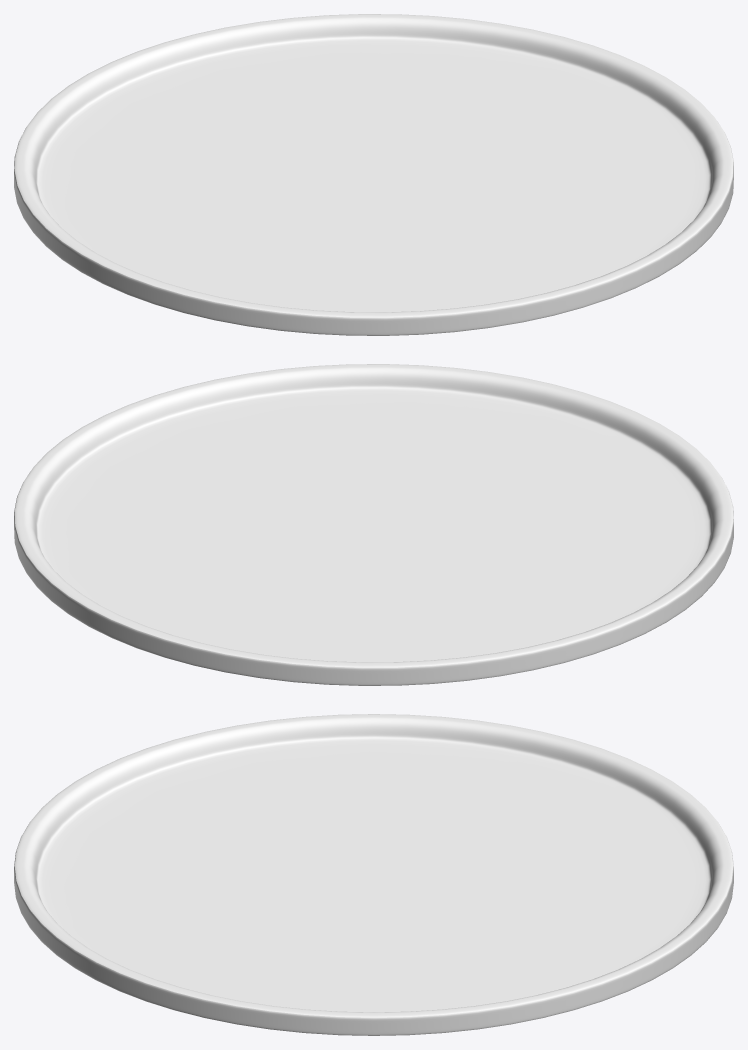
The model's file is HP_wideplate.glb.
The picture shows the model from 3 angles, top to bottom: view 1: azimuth 30°, elevation 25°; view 2: azimuth 150°, elevation 25°; view 3: azimuth 270°, elevation 25°; orthographic projection.
Visible parts, largest first — view 1: HP_wideplate.001; view 2: HP_wideplate.001; view 3: HP_wideplate.001.
Boxes of the visible parts, box(x1,y1,x2,y2) form: HP_wideplate.001: box(14, 14, 733, 335); HP_wideplate.001: box(14, 364, 733, 685); HP_wideplate.001: box(14, 714, 733, 1035).
Bounding box in the file's own units: 0.215 × 0.00637 × 0.215.
Materials: 1 (1 with a texture image).
